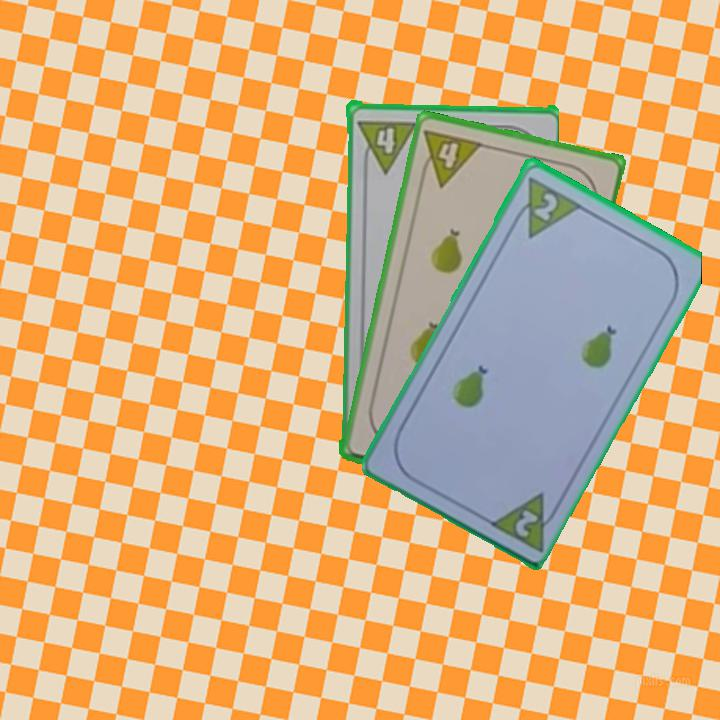2p: (507, 172, 584, 241), (511, 505, 542, 540)
4p: (415, 125, 485, 190), (353, 115, 418, 174)
